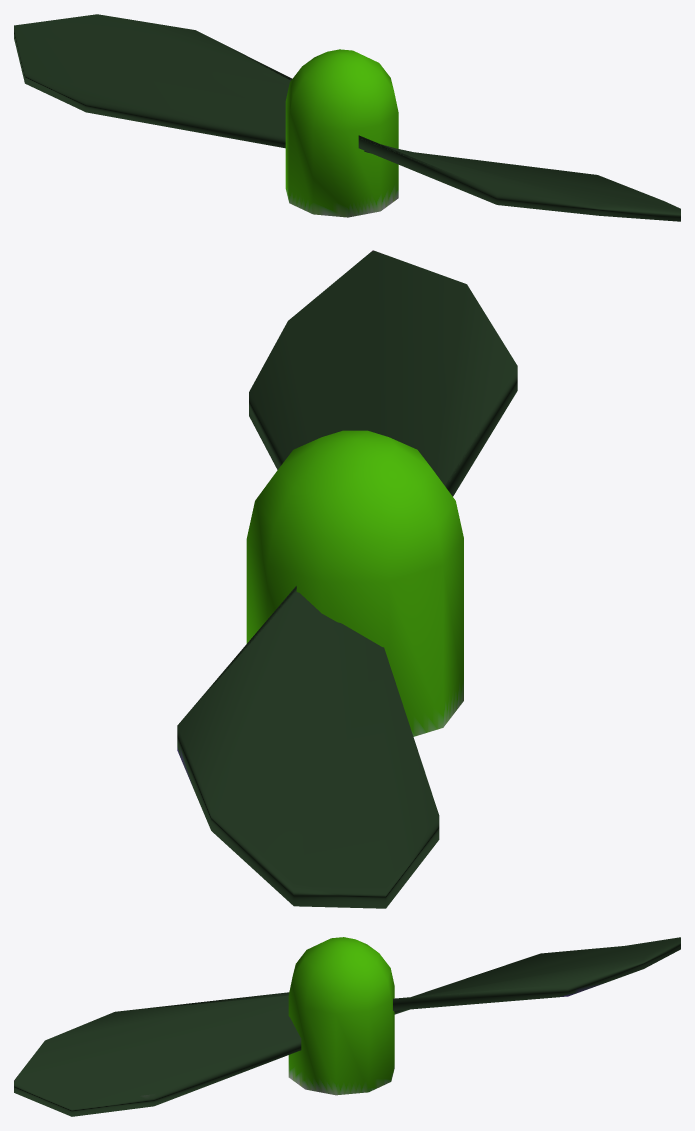
The model's file is SM_Dron_SM_D_Propeller1.fbx.
3 renders of one model, top to bottom at view 1: azimuth 30°, elevation 25°; view 2: azimuth 150°, elevation 25°; view 3: azimuth 270°, elevation 25°, orthographic. The views are drawn at different scales.
Visible parts, largest first — view 1: SM_Dron_SM_D_Propeller1; view 2: SM_Dron_SM_D_Propeller1; view 3: SM_Dron_SM_D_Propeller1.
Part boxes in pixels (box(x1,y1,x2,y2)): SM_Dron_SM_D_Propeller1: box(14, 14, 680, 221); SM_Dron_SM_D_Propeller1: box(177, 250, 517, 908); SM_Dron_SM_D_Propeller1: box(14, 937, 680, 1116).
Size of the model in its own units: 12.01 by 21.32 by 4.6.
Materials: 1 (1 with a texture image).
